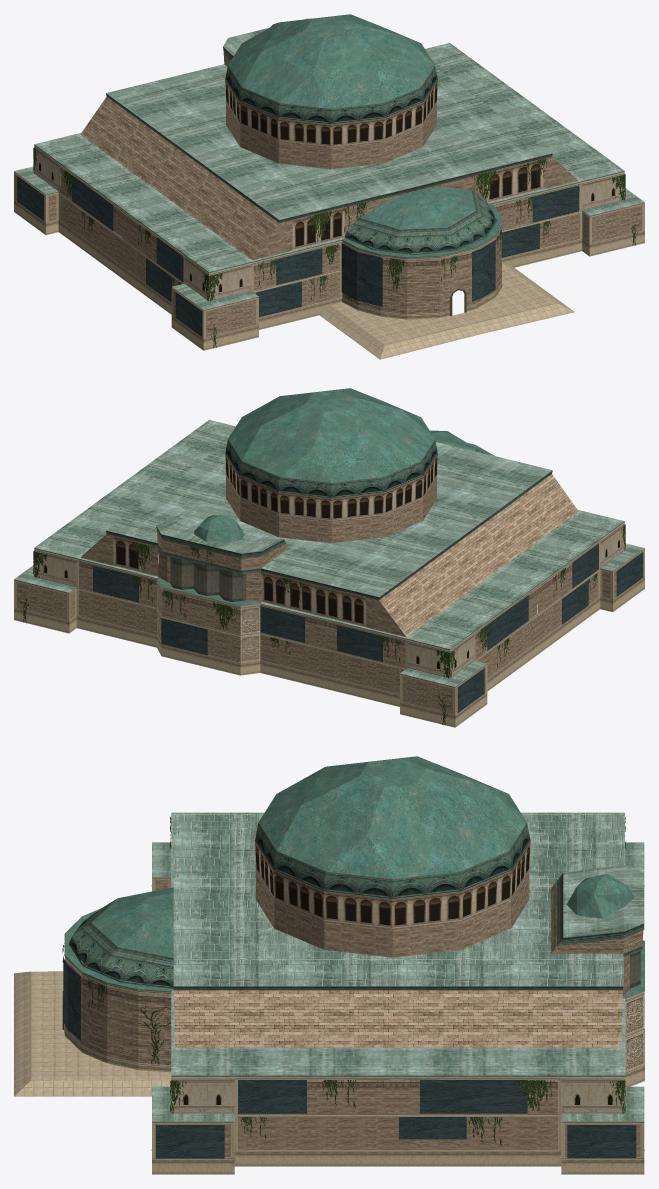
Rendered from mun_nboo_hotel_s01_r0_mesh_l1.fbx.
3 views of the same model, one above another, from view 1: azimuth 30°, elevation 25°; view 2: azimuth 150°, elevation 25°; view 3: azimuth 270°, elevation 25° (orthographic). The views are drawn at different scales.
Parts seen in each view (by area): view 1: mesh_node; view 2: mesh_node; view 3: mesh_node.
Boxes of the visible parts, x1=… form: mesh_node: x1=14, y1=14, x2=644, y2=359; mesh_node: x1=14, y1=388, x2=644, y2=727; mesh_node: x1=14, y1=756, x2=644, y2=1174.
Bounding box in the file's own units: 59.56 × 26.29 × 56.86.
